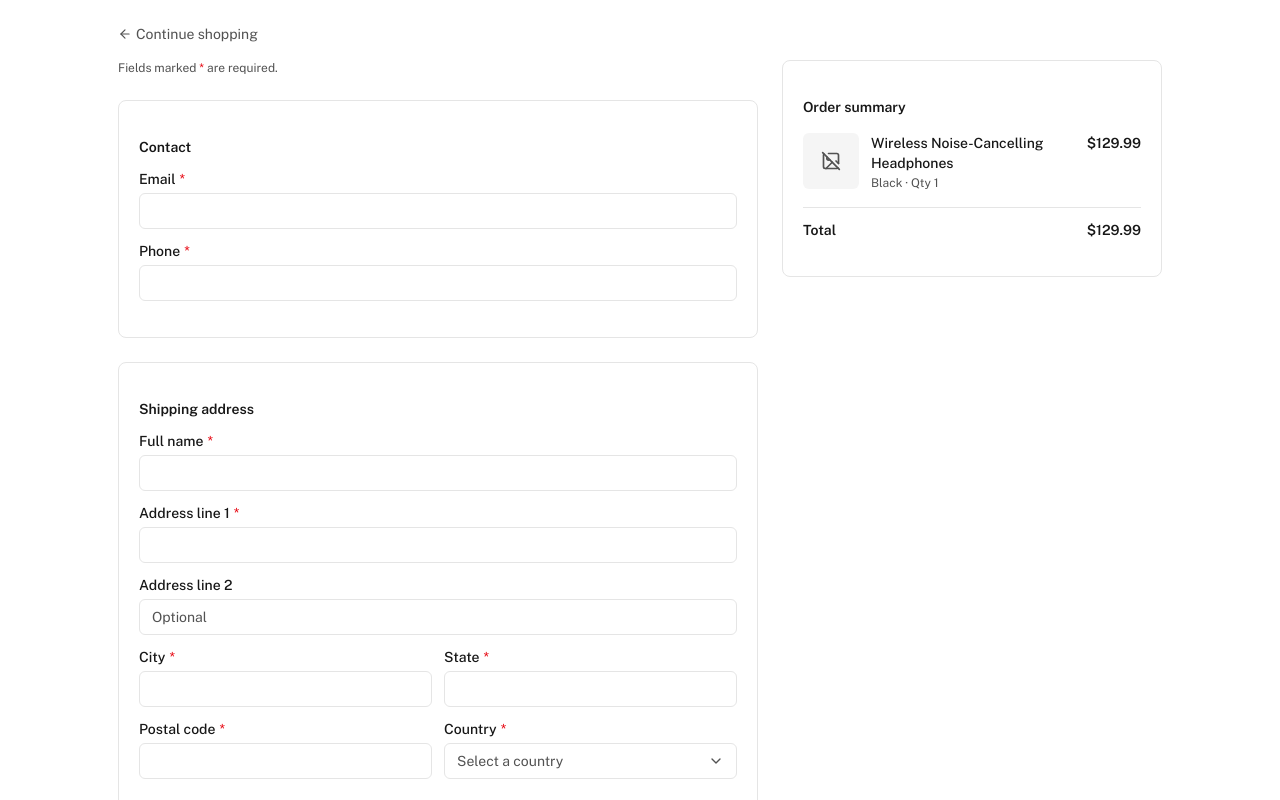
delivery country › lists countries by name and is searchable
Click the dropdown labelled "country" at [510, 761], box x1=444 y1=743 x2=737 y2=779
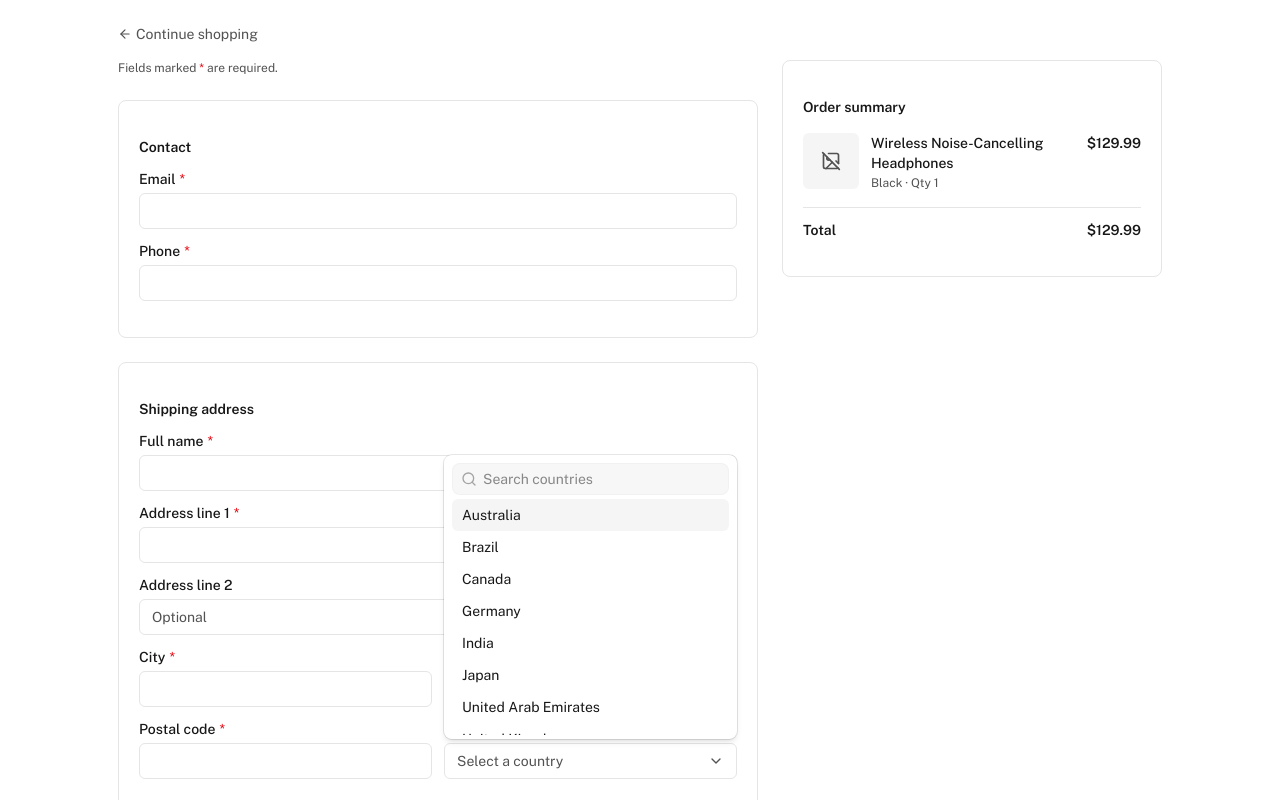
Type "united" into the dropdown named "Search country" at [602, 479], box x1=477 y1=469 x2=728 y2=489
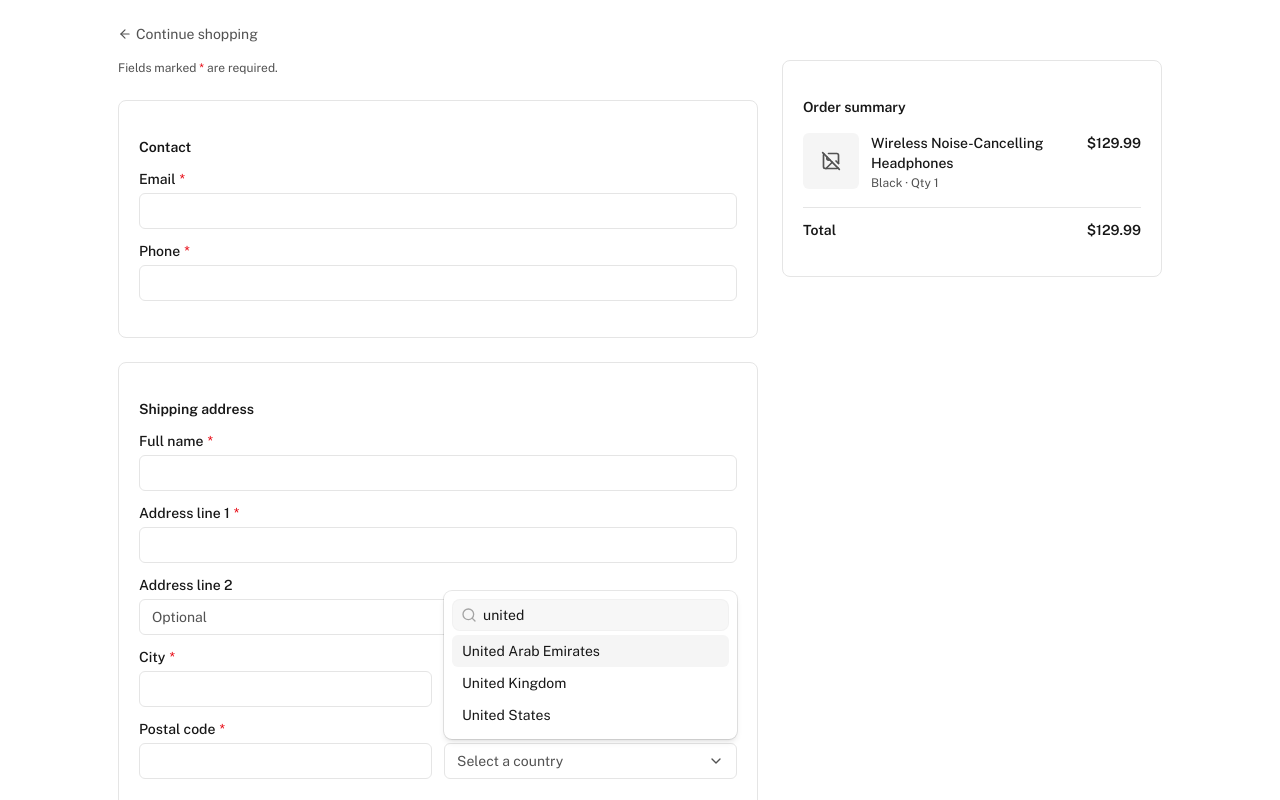
Now the option "United Arab Emirates" is shown, box x1=452 y1=635 x2=729 y2=667
Now the option "United Kingdom" is shown, box x1=462 y1=675 x2=566 y2=691
Now the option "United States" is shown, box x1=462 y1=707 x2=550 y2=723
